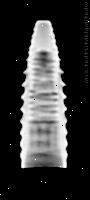Cowellmedi: (19, 19, 67, 169)
